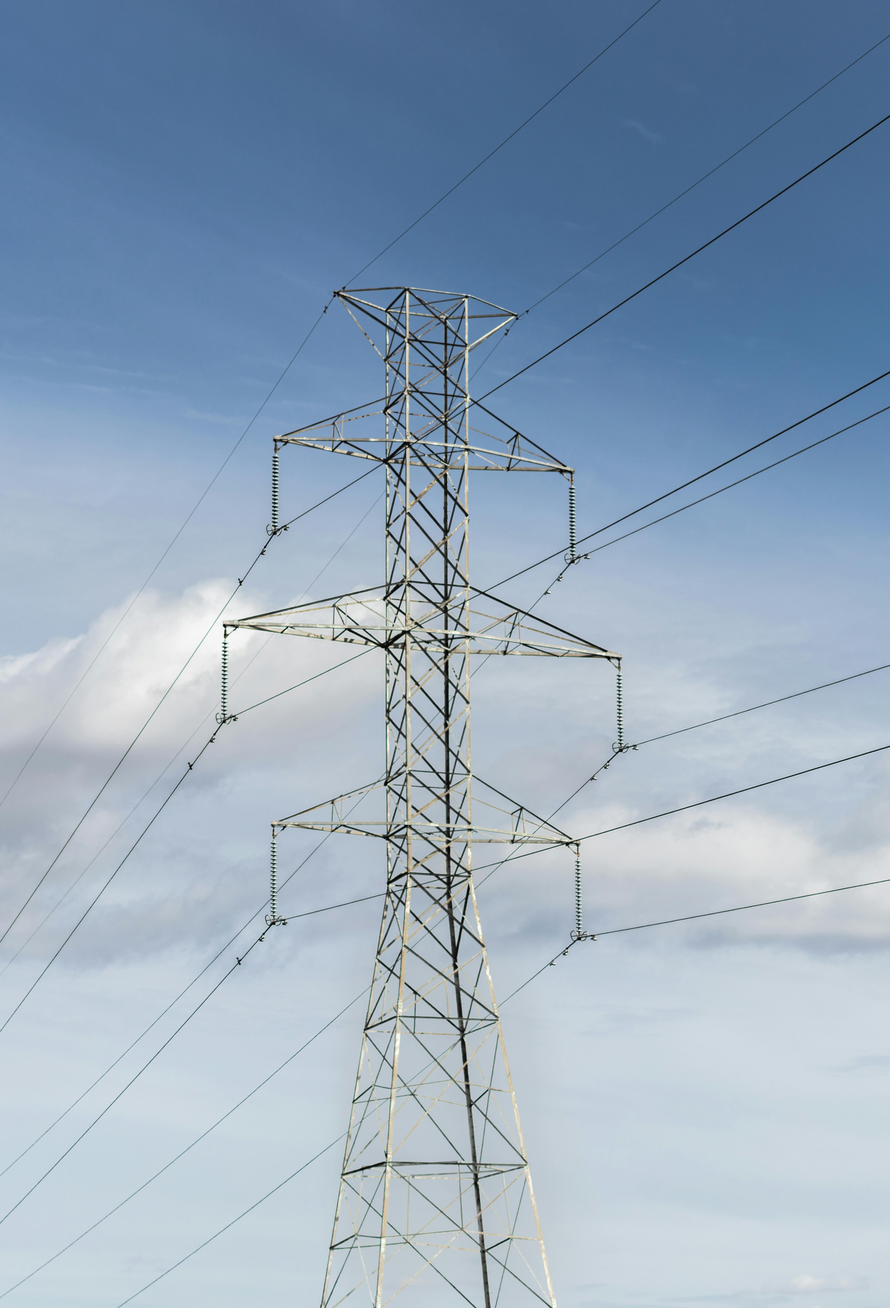insulator: (553, 469, 588, 568), (264, 825, 296, 922), (562, 841, 591, 938), (605, 656, 628, 753), (269, 438, 288, 542), (217, 624, 233, 732)
